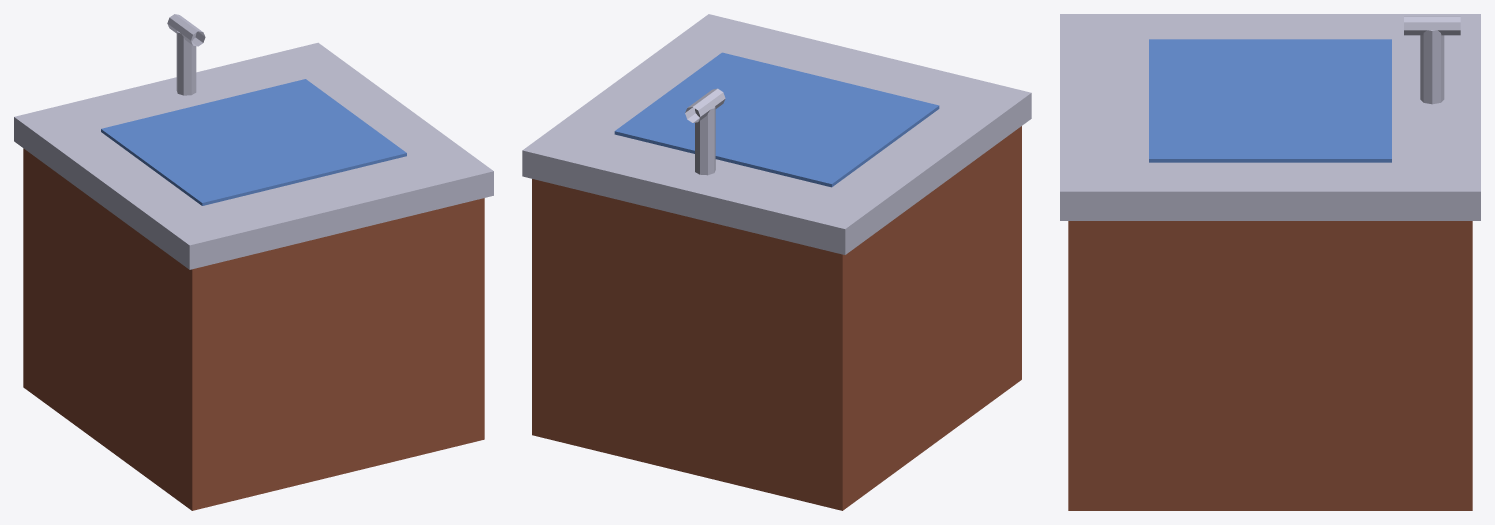
Rendered from sink.glb.
3 views of the same model, side by side, from view 1: azimuth 30°, elevation 25°; view 2: azimuth 150°, elevation 25°; view 3: azimuth 270°, elevation 25° (orthographic). The views are drawn at different scales.
Parts seen in each view (by area): view 1: sink; view 2: sink; view 3: sink.
Boxes of the visible parts, bbox=[...] form: sink: bbox=[14, 14, 493, 510]; sink: bbox=[522, 14, 1031, 510]; sink: bbox=[1060, 14, 1480, 510].
Bounding box in the file's own units: 1.04 × 1.12 × 1.04.
1 material, 1 textured.
